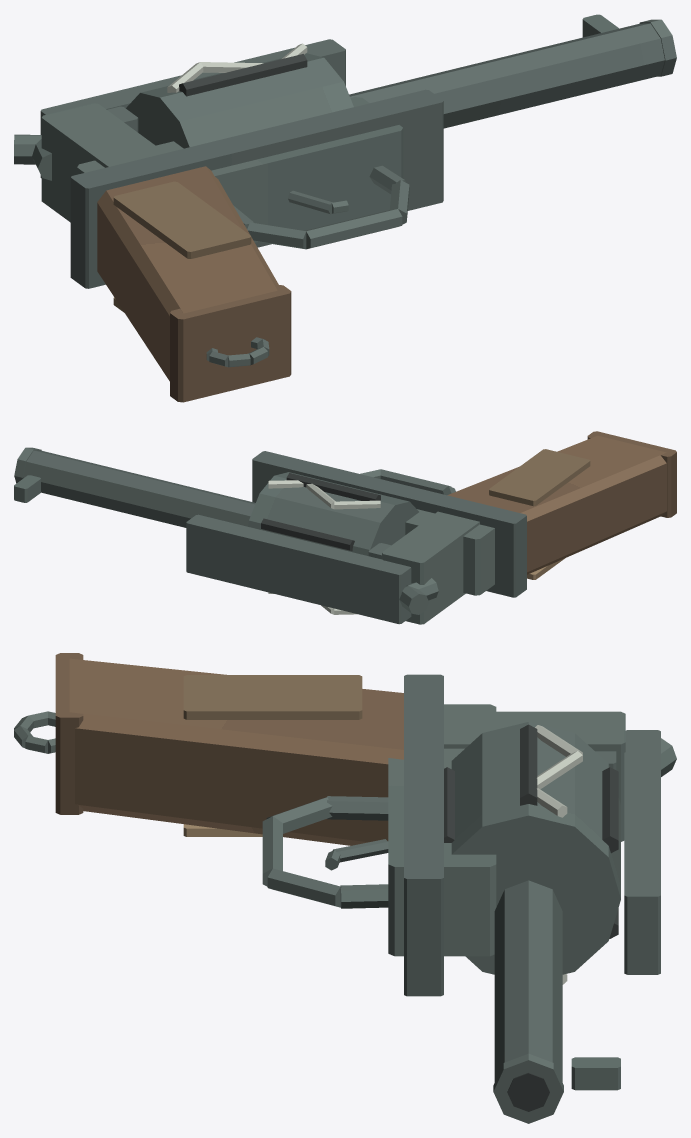
File: weapon-webley-fosbery.glb
3 renders of one model, top to bottom at view 1: azimuth 30°, elevation 25°; view 2: azimuth 150°, elevation 25°; view 3: azimuth 270°, elevation 25°, orthographic. The views are drawn at different scales.
Visible parts, largest first — view 1: weapon-webley-fosbery/separate-upper-slide, weapon-webley-fosbery/eight-sided-wood-grip, weapon-webley-fosbery/barrel, weapon-webley-fosbery/lower-frame, weapon-webley-fosbery/fluted-cylinder, weapon-webley-fosbery/eight-sided-wood-grip-heel, weapon-webley-fosbery/frame-rear, weapon-webley-fosbery/grip-plaque-left, weapon-webley-fosbery/continuous-top-strap, weapon-webley-fosbery/cylinder-long-flute-3, weapon-webley-fosbery/hollow-trigger-guard-4, weapon-webley-fosbery/hollow-trigger-guard-5 (+3 smaller); view 2: weapon-webley-fosbery/continuous-top-strap, weapon-webley-fosbery/eight-sided-wood-grip, weapon-webley-fosbery/barrel, weapon-webley-fosbery/separate-upper-slide, weapon-webley-fosbery/fluted-cylinder, weapon-webley-fosbery/frame-rear, weapon-webley-fosbery/grip-plaque-left, weapon-webley-fosbery/lower-frame, weapon-webley-fosbery/eight-sided-wood-grip-heel, weapon-webley-fosbery/cylinder-long-flute-2, weapon-webley-fosbery/cylinder-long-flute-3, weapon-webley-fosbery/hollow-trigger-guard-4 (+5 smaller); view 3: weapon-webley-fosbery/eight-sided-wood-grip, weapon-webley-fosbery/fluted-cylinder, weapon-webley-fosbery/separate-upper-slide, weapon-webley-fosbery/barrel, weapon-webley-fosbery/lower-frame, weapon-webley-fosbery/continuous-top-strap, weapon-webley-fosbery/grip-plaque-left, weapon-webley-fosbery/frame-rear, weapon-webley-fosbery/eight-sided-wood-grip-heel, weapon-webley-fosbery/barrel-end-rim, weapon-webley-fosbery/front-sight, weapon-webley-fosbery/hollow-trigger-guard-3 (+10 smaller).
Part boxes in pixels (x1,y1,x2,y2): weapon-webley-fosbery/separate-upper-slide: (70,89,443,288); weapon-webley-fosbery/eight-sided-wood-grip: (97,166,278,381); weapon-webley-fosbery/barrel: (349,23,664,128); weapon-webley-fosbery/lower-frame: (77,97,403,242); weapon-webley-fosbery/fluted-cylinder: (126,53,353,148); weapon-webley-fosbery/eight-sided-wood-grip-heel: (170,284,291,402); weapon-webley-fosbery/frame-rear: (41,103,165,222); weapon-webley-fosbery/grip-plaque-left: (113,181,251,258); weapon-webley-fosbery/continuous-top-strap: (40,39,345,178); weapon-webley-fosbery/cylinder-long-flute-3: (179,54,307,96); weapon-webley-fosbery/hollow-trigger-guard-4: (306,209,402,249); weapon-webley-fosbery/hollow-trigger-guard-5: (247,222,306,249); weapon-webley-fosbery/continuous-top-strap: (186,514,411,624); weapon-webley-fosbery/eight-sided-wood-grip: (447,435,666,574); weapon-webley-fosbery/barrel: (23,450,255,527); weapon-webley-fosbery/separate-upper-slide: (252,451,526,597); weapon-webley-fosbery/fluted-cylinder: (248,472,418,555); weapon-webley-fosbery/frame-rear: (382,511,479,624); weapon-webley-fosbery/grip-plaque-left: (489,449,590,506); weapon-webley-fosbery/lower-frame: (405,509,494,595); weapon-webley-fosbery/eight-sided-wood-grip-heel: (587,431,676,517); weapon-webley-fosbery/cylinder-long-flute-2: (261,518,354,550); weapon-webley-fosbery/cylinder-long-flute-3: (286,473,380,500); weapon-webley-fosbery/hollow-trigger-guard-4: (380,469,451,493); weapon-webley-fosbery/eight-sided-wood-grip: (69,658,403,845); weapon-webley-fosbery/fluted-cylinder: (451,722,620,974); weapon-webley-fosbery/separate-upper-slide: (404,674,443,996); weapon-webley-fosbery/barrel: (494,880,562,1081); weapon-webley-fosbery/lower-frame: (388,704,496,956); weapon-webley-fosbery/continuous-top-strap: (624,730,660,974); weapon-webley-fosbery/grip-plaque-left: (183,675,362,719); weapon-webley-fosbery/frame-rear: (444,711,625,841); weapon-webley-fosbery/eight-sided-wood-grip-heel: (55,653,83,814); weapon-webley-fosbery/barrel-end-rim: (493,1053,563,1123); weapon-webley-fosbery/front-sight: (571,1057,620,1090); weapon-webley-fosbery/hollow-trigger-guard-3: (267,868,341,907).
Bounding box in the file's own units: 0.3004 × 0.0674 × 0.2152.
5 materials, 5 textured.
